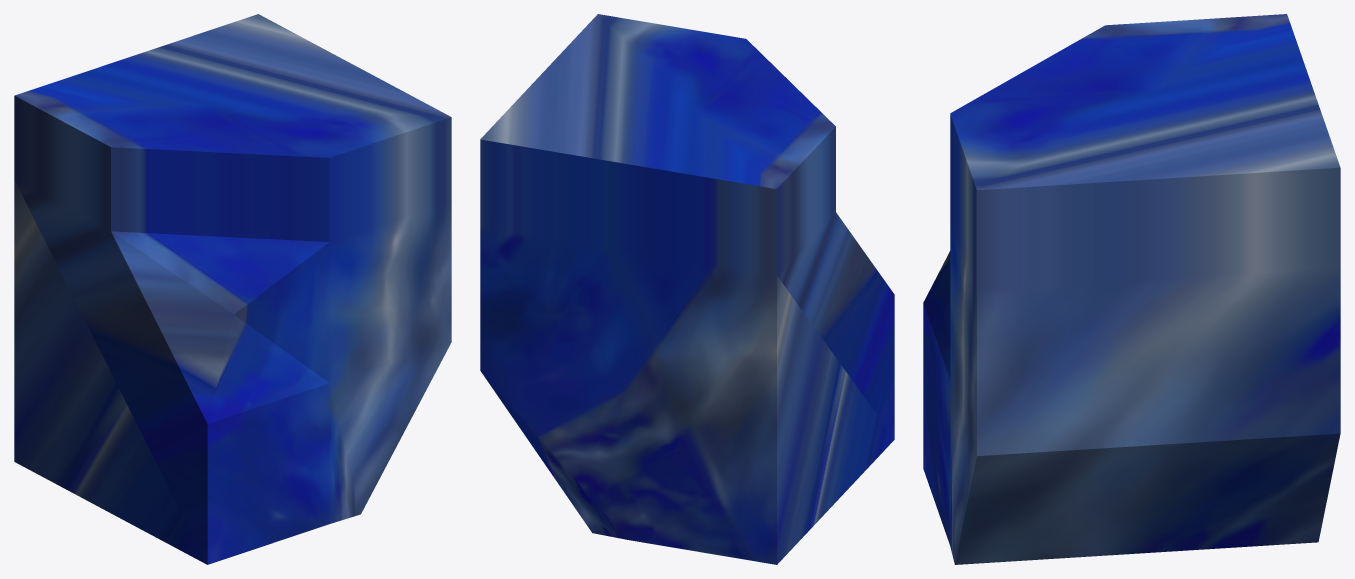
The model's file is BlueBlocks_9.gltf.
3 renders of one model, left to right at view 1: azimuth 30°, elevation 25°; view 2: azimuth 150°, elevation 25°; view 3: azimuth 270°, elevation 25°, orthographic. The views are drawn at different scales.
Visible parts, largest first — view 1: BlueBlocks_9; view 2: BlueBlocks_9; view 3: BlueBlocks_9.
Part boxes in pixels (<box>): BlueBlocks_9: <box>14,14,451,564</box>; BlueBlocks_9: <box>480,14,894,564</box>; BlueBlocks_9: <box>923,14,1340,564</box>.
Bounding box in the file's own units: 18.99 × 21.73 × 18.99.
Materials: 1 (1 with a texture image).
